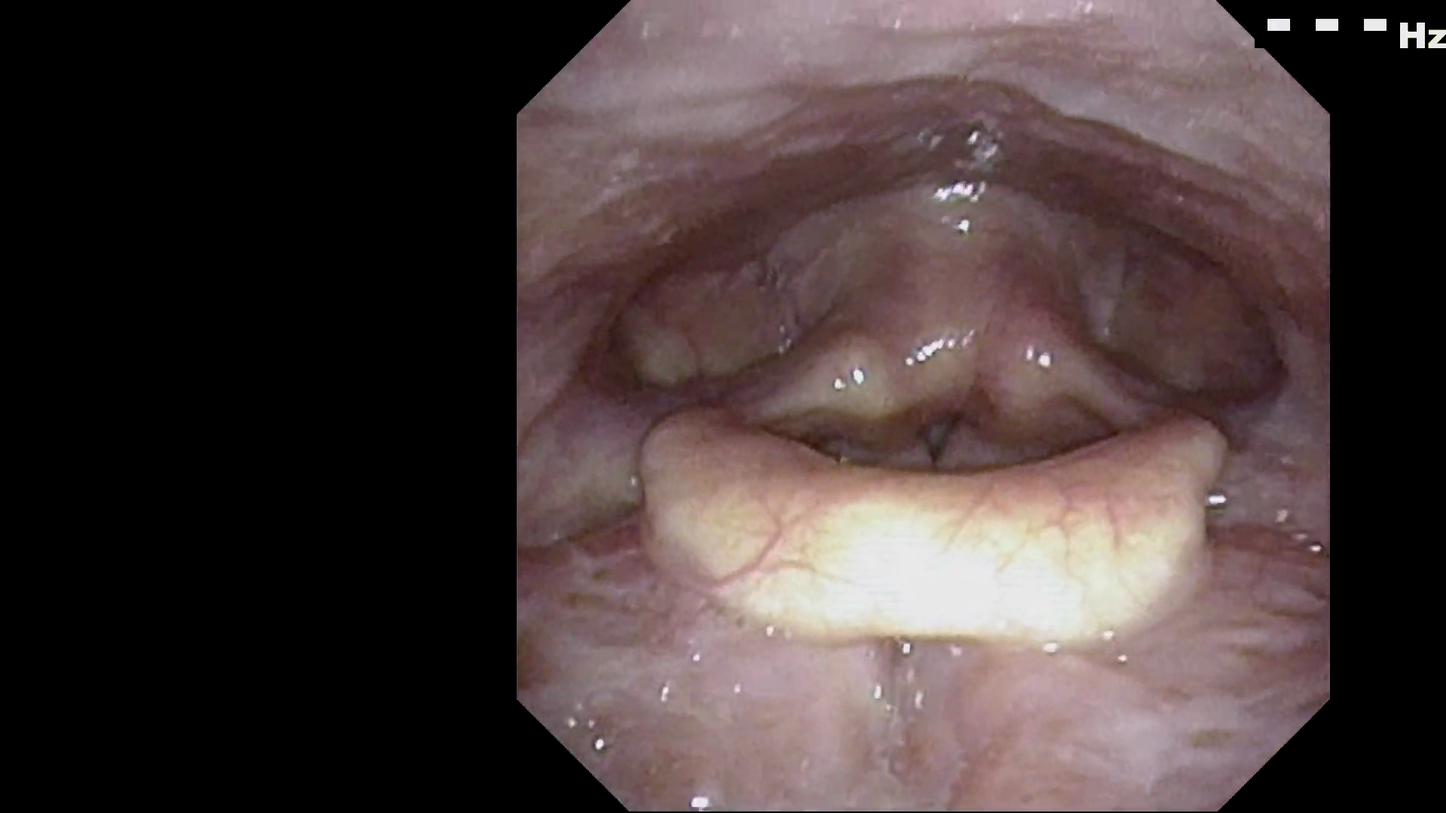epiglottis: (647, 391, 1236, 658)
trachea: (884, 374, 989, 499)
